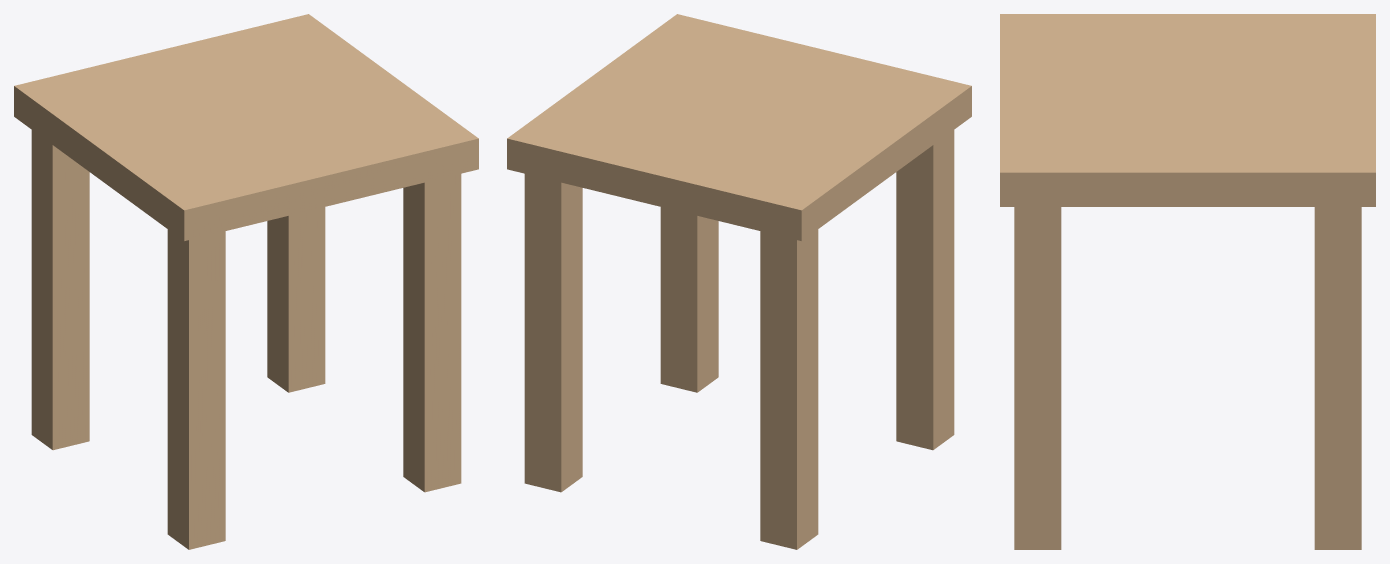
File: sample-stool.glb
The picture shows the model from 3 angles, left to right: view 1: azimuth 30°, elevation 25°; view 2: azimuth 150°, elevation 25°; view 3: azimuth 270°, elevation 25°; orthographic projection. The views are drawn at different scales.
Parts seen in each view (by area): view 1: Stool; view 2: Stool; view 3: Stool.
Boxes of the visible parts, x1,y1,x2,y2 form: Stool: [14, 14, 478, 549]; Stool: [507, 14, 971, 549]; Stool: [1000, 14, 1375, 549].
Size of the model in its own units: 0.4 by 0.45 by 0.4.
